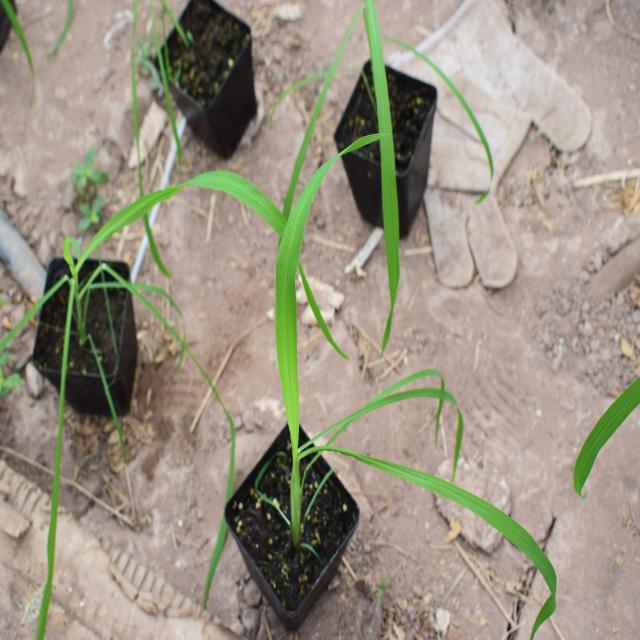barnyard_grass: (131, 97, 571, 615)
